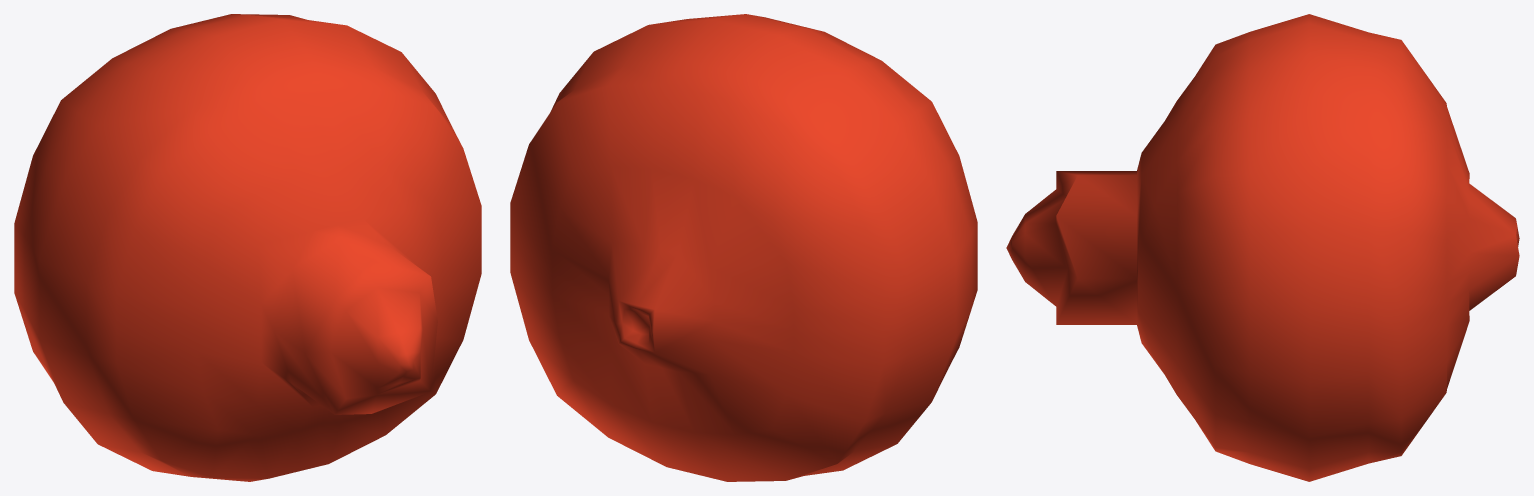
Rendered from Rosehip_Flat.fbx.
The picture shows the model from 3 angles, left to right: view 1: azimuth 30°, elevation 25°; view 2: azimuth 150°, elevation 25°; view 3: azimuth 270°, elevation 25°; orthographic projection. The views are drawn at different scales.
Visible parts, largest first — view 1: rosehip flat; view 2: rosehip flat; view 3: rosehip flat.
Part boxes in pixels (left/top/right/bottom): rosehip flat: left=14, top=14, right=481, bottom=481; rosehip flat: left=510, top=14, right=977, bottom=481; rosehip flat: left=1006, top=14, right=1519, bottom=481.
Size of the model in its own units: 4.16 by 4.16 by 4.64.
